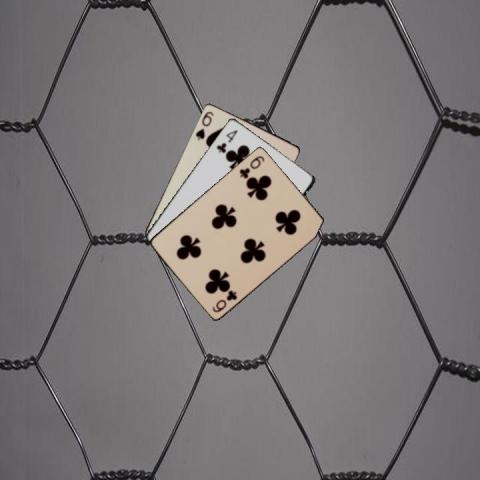4c: (213, 127, 239, 154)
6c: (209, 287, 239, 313), (237, 153, 266, 179)
6s: (193, 108, 215, 141)
